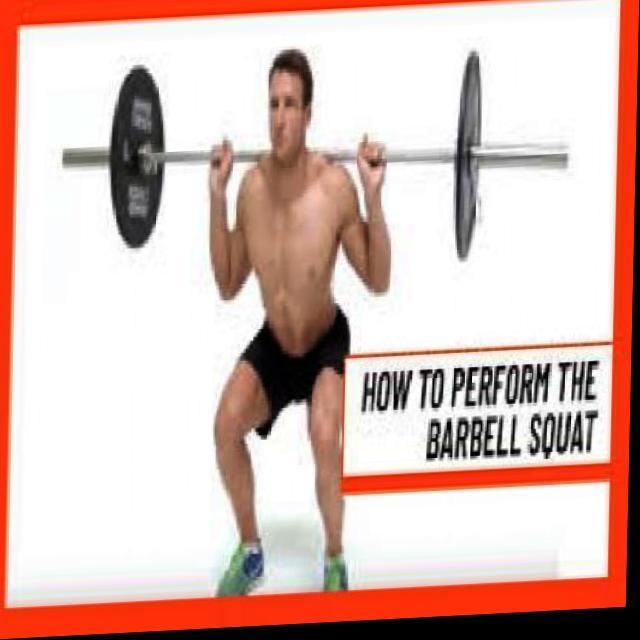barbell: (459, 49, 580, 267)
